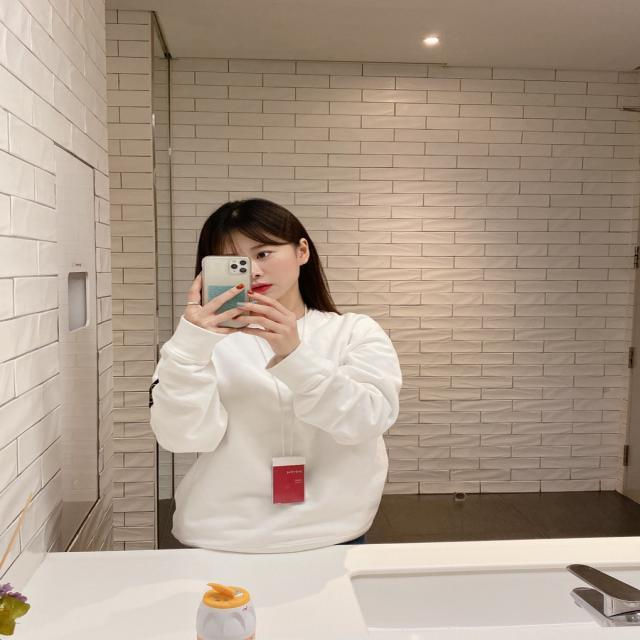phone: (202, 256, 252, 328)
